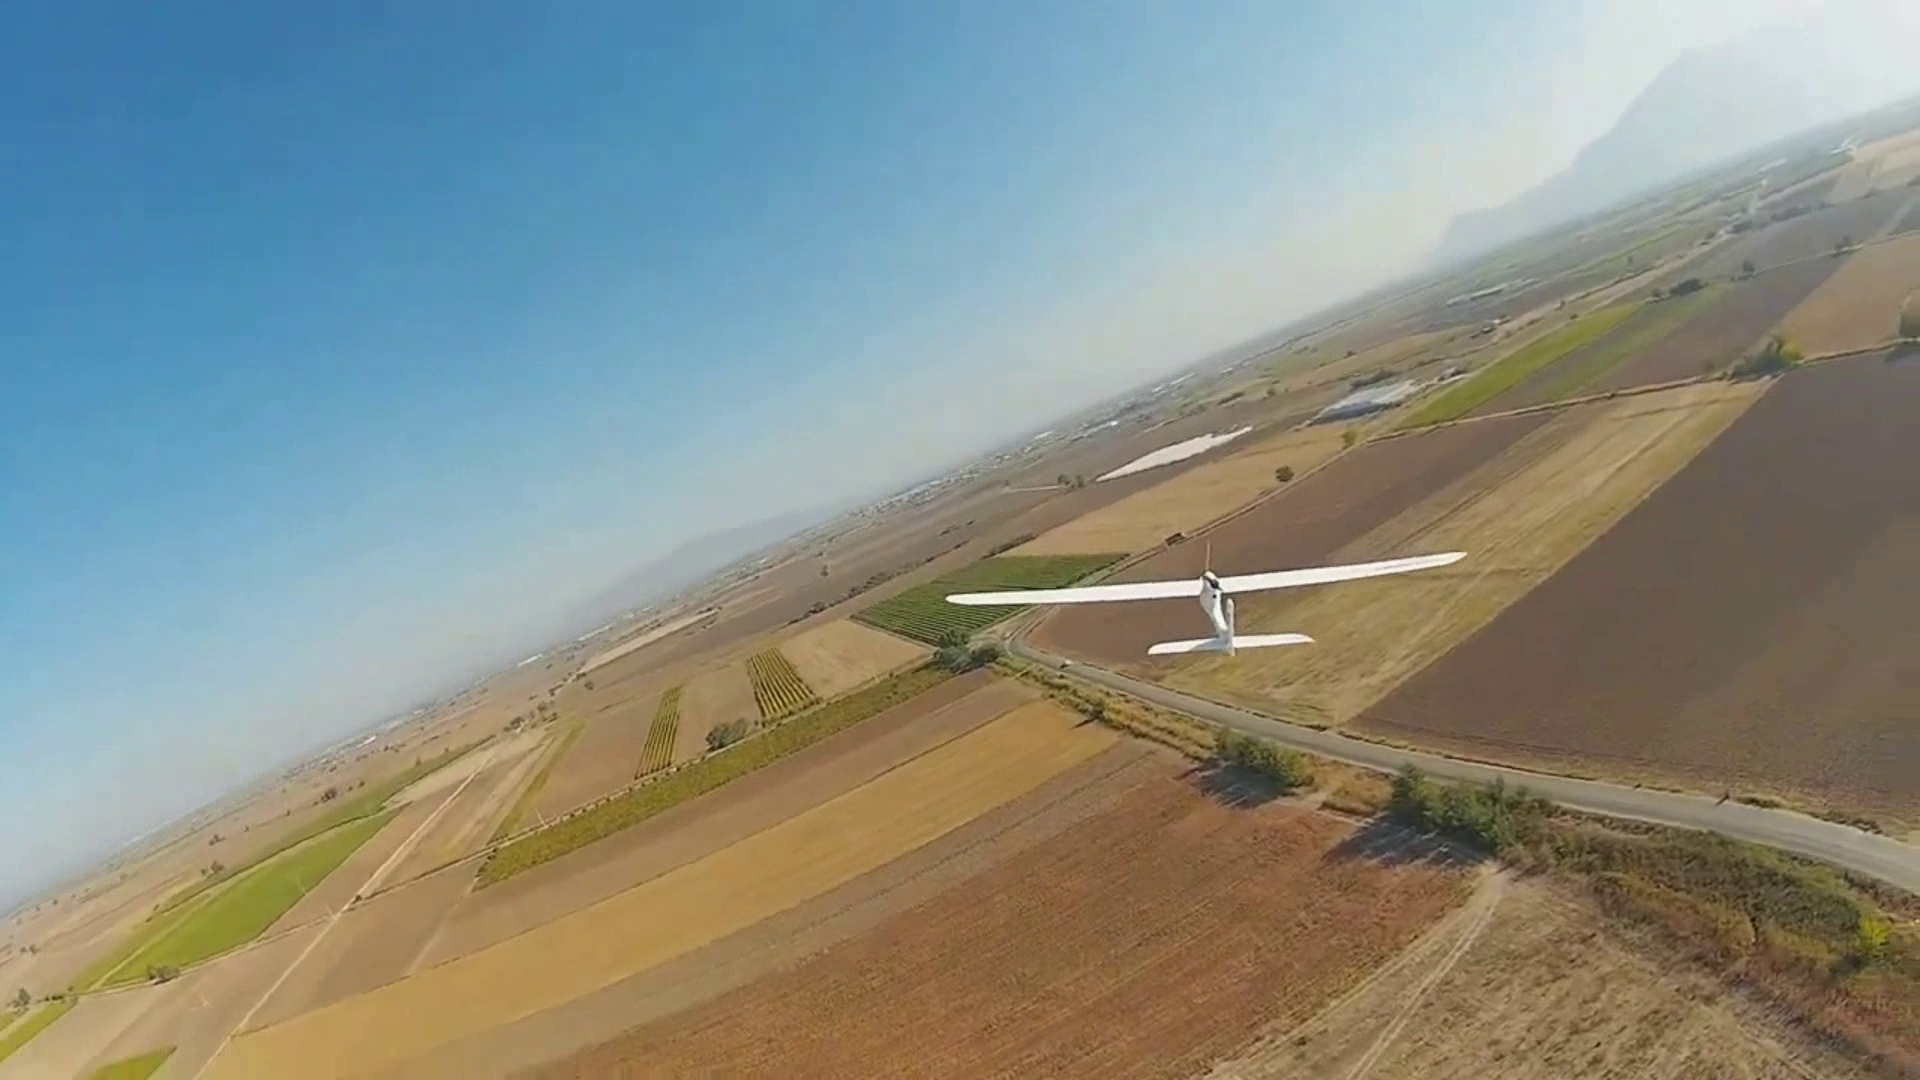airplane: (8, 72, 1920, 1066)
